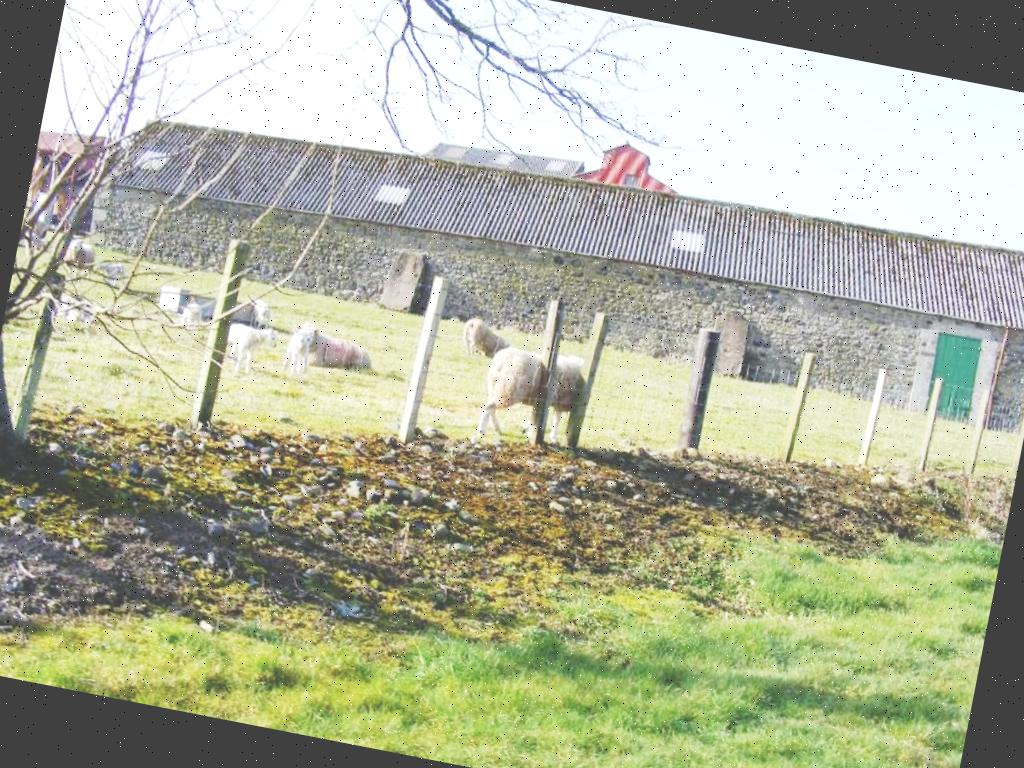Sheep: (467, 341, 596, 461), (288, 324, 374, 370), (224, 321, 280, 375), (459, 319, 511, 365), (58, 232, 102, 286), (280, 324, 316, 370)
